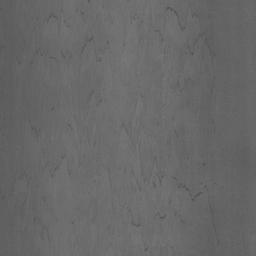Silk spot: (29, 3, 216, 245), (0, 0, 125, 65), (0, 171, 57, 242), (144, 243, 174, 256)
